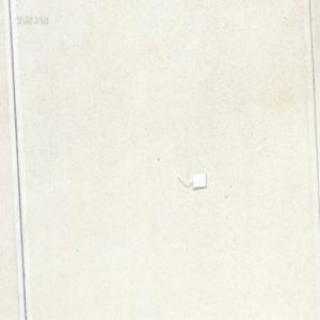LuggageTagtrack_idkeyframe: (176, 171, 205, 188)
